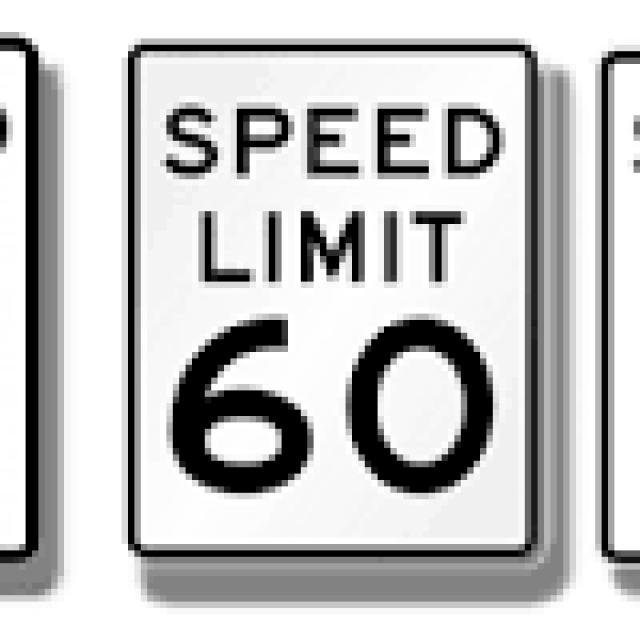speedLimit60: (122, 35, 550, 554)
